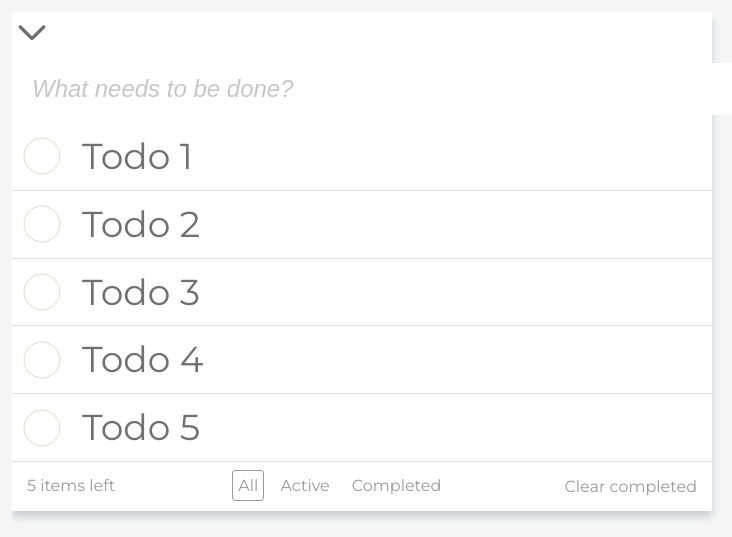
Test case: List Component › same amount of todos
Click the radio button labelled "Completed".
click(397, 486)  # box left=346, top=478, right=447, bottom=494
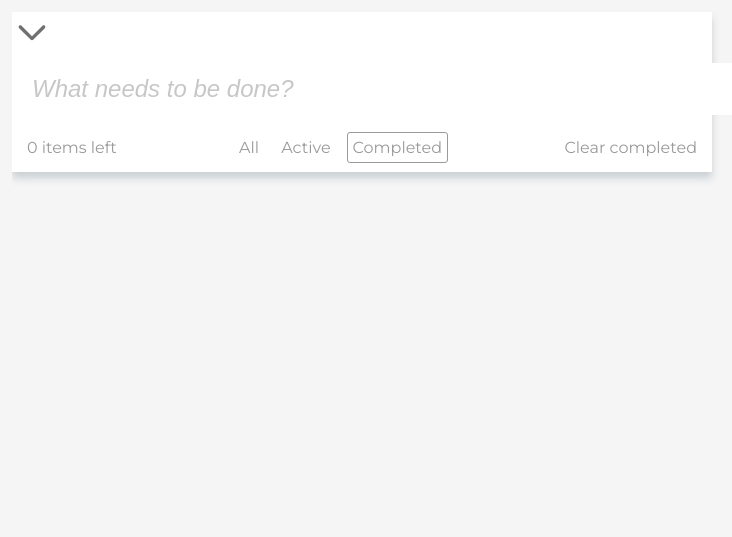
Expected: the text "0 items left" is shown, left=27, top=140, right=117, bottom=156
Result: no list items are shown
